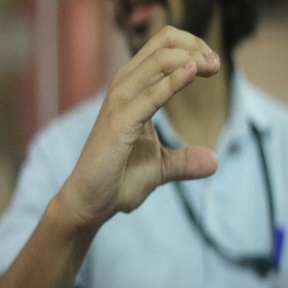C: (108, 22, 231, 198)
